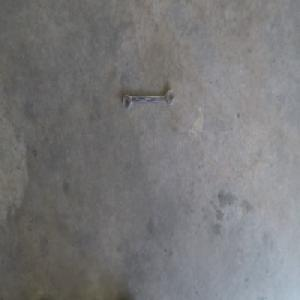Wrench: (122, 89, 174, 110)
